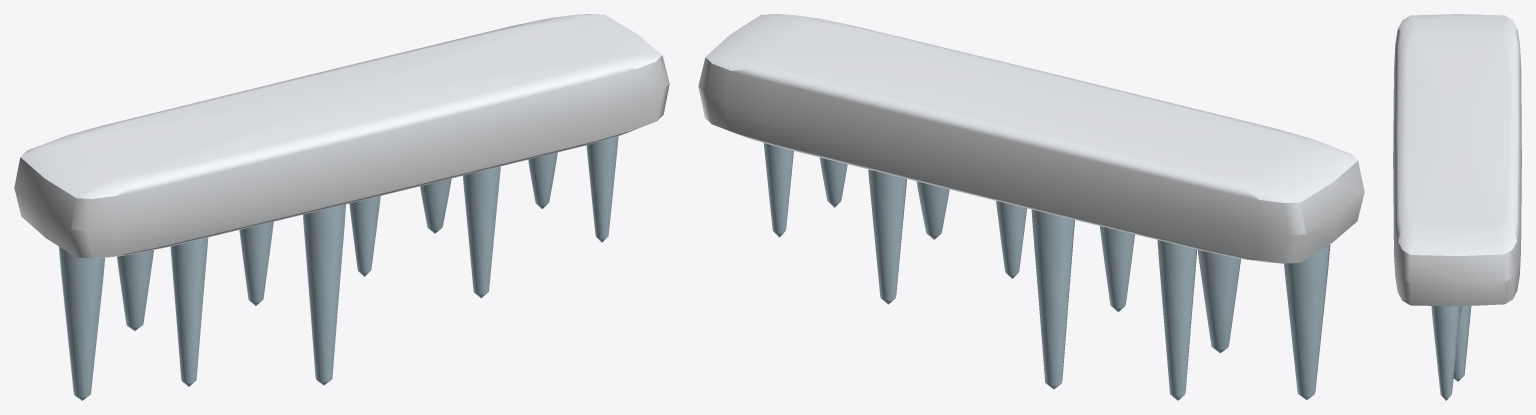
The model's file is IcicleLedge.obj.
The picture shows the model from 3 angles, left to right: view 1: azimuth 30°, elevation 25°; view 2: azimuth 150°, elevation 25°; view 3: azimuth 270°, elevation 25°; orthographic projection. The views are drawn at different scales.
Visible parts, largest first — view 1: IcicleLedge; view 2: IcicleLedge; view 3: IcicleLedge.
Part boxes in pixels (box(x1,y1,x2,y2)): IcicleLedge: box(14, 14, 669, 400); IcicleLedge: box(698, 14, 1364, 400); IcicleLedge: box(1393, 14, 1521, 400).
Bounding box in the file's own units: 10.01 × 4.44 × 2.2.
1 material, 1 textured.
